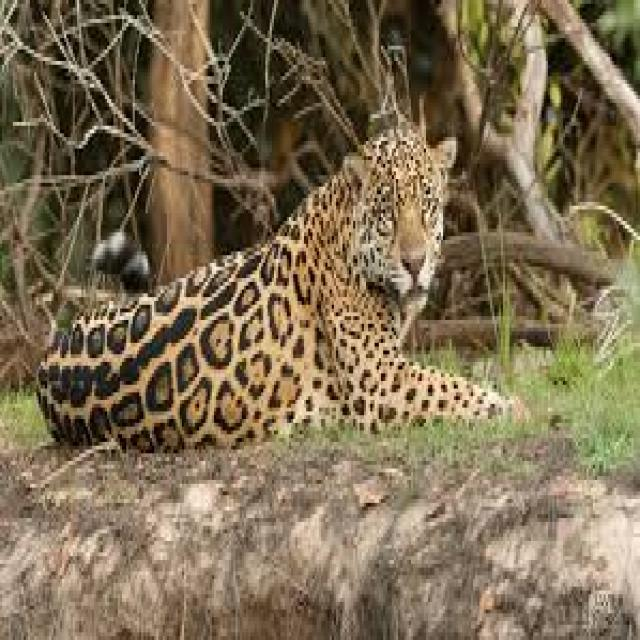Jaguar: (41, 118, 526, 465)
